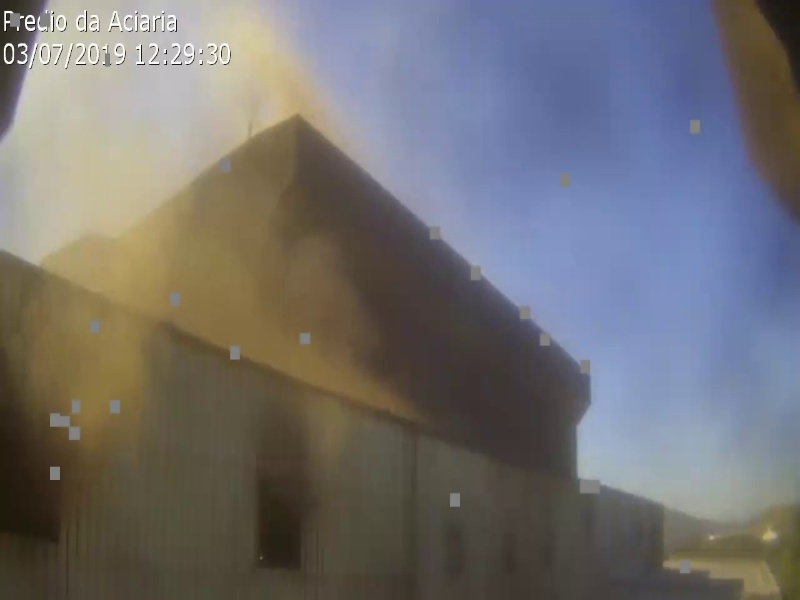Pessimo: (117, 244, 230, 315), (92, 188, 205, 259), (70, 114, 183, 185), (205, 273, 318, 344), (233, 15, 276, 90), (289, 332, 354, 377), (244, 82, 309, 127), (197, 120, 262, 165), (217, 211, 282, 256), (74, 235, 124, 277), (74, 309, 124, 351)
